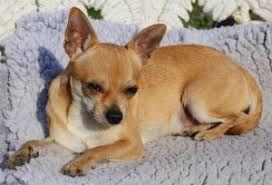chihuahua: (24, 3, 265, 177)
